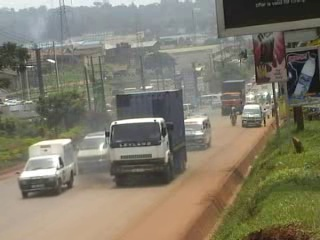Car: (73, 130, 114, 173)
Motorcycle: (226, 104, 240, 127)
